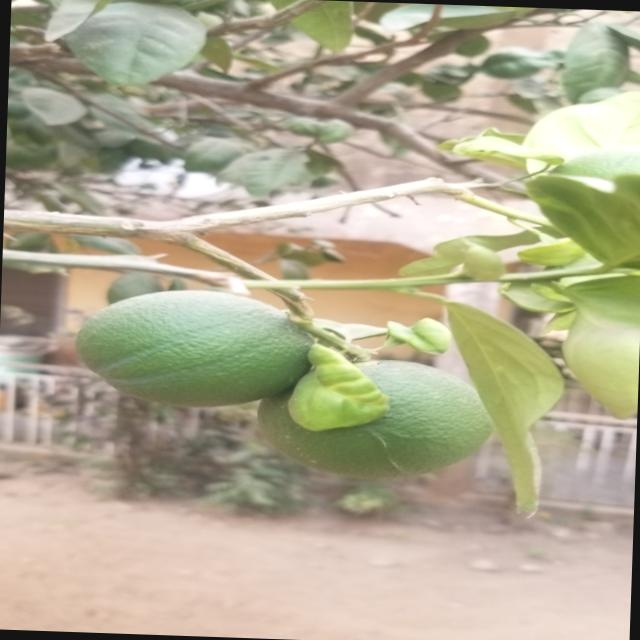agrume: (49, 277, 328, 415), (253, 349, 499, 487)
